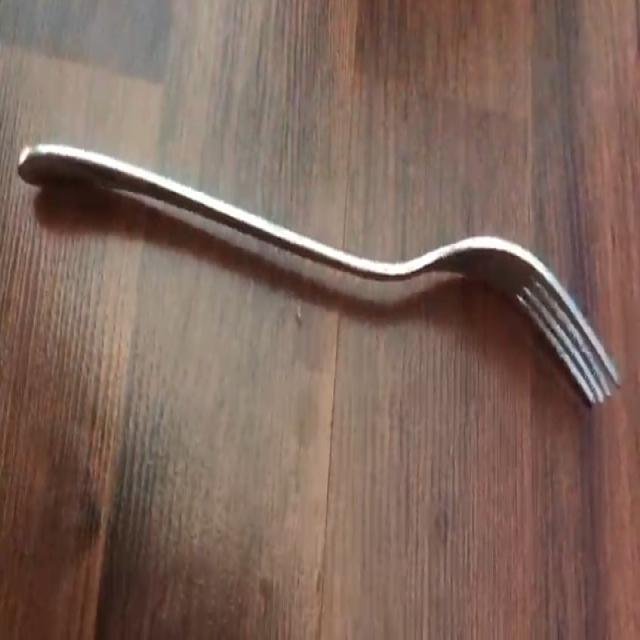spoon: (19, 144, 619, 404)
